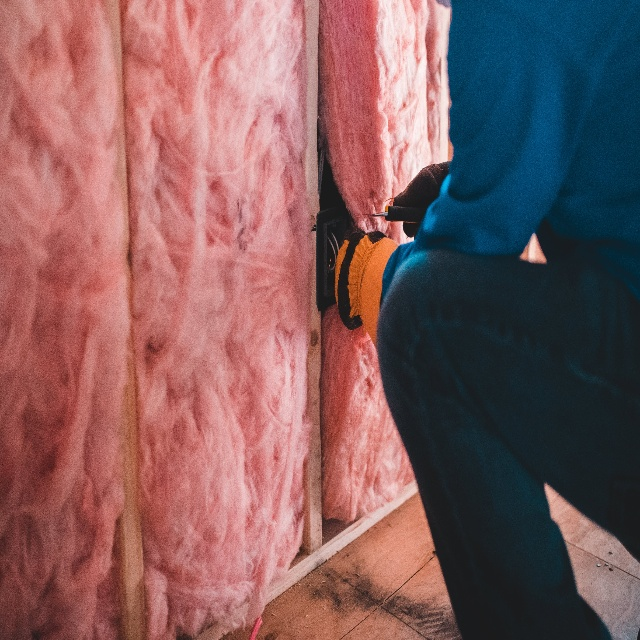Guantes: (334, 224, 402, 351), (394, 160, 450, 240)
